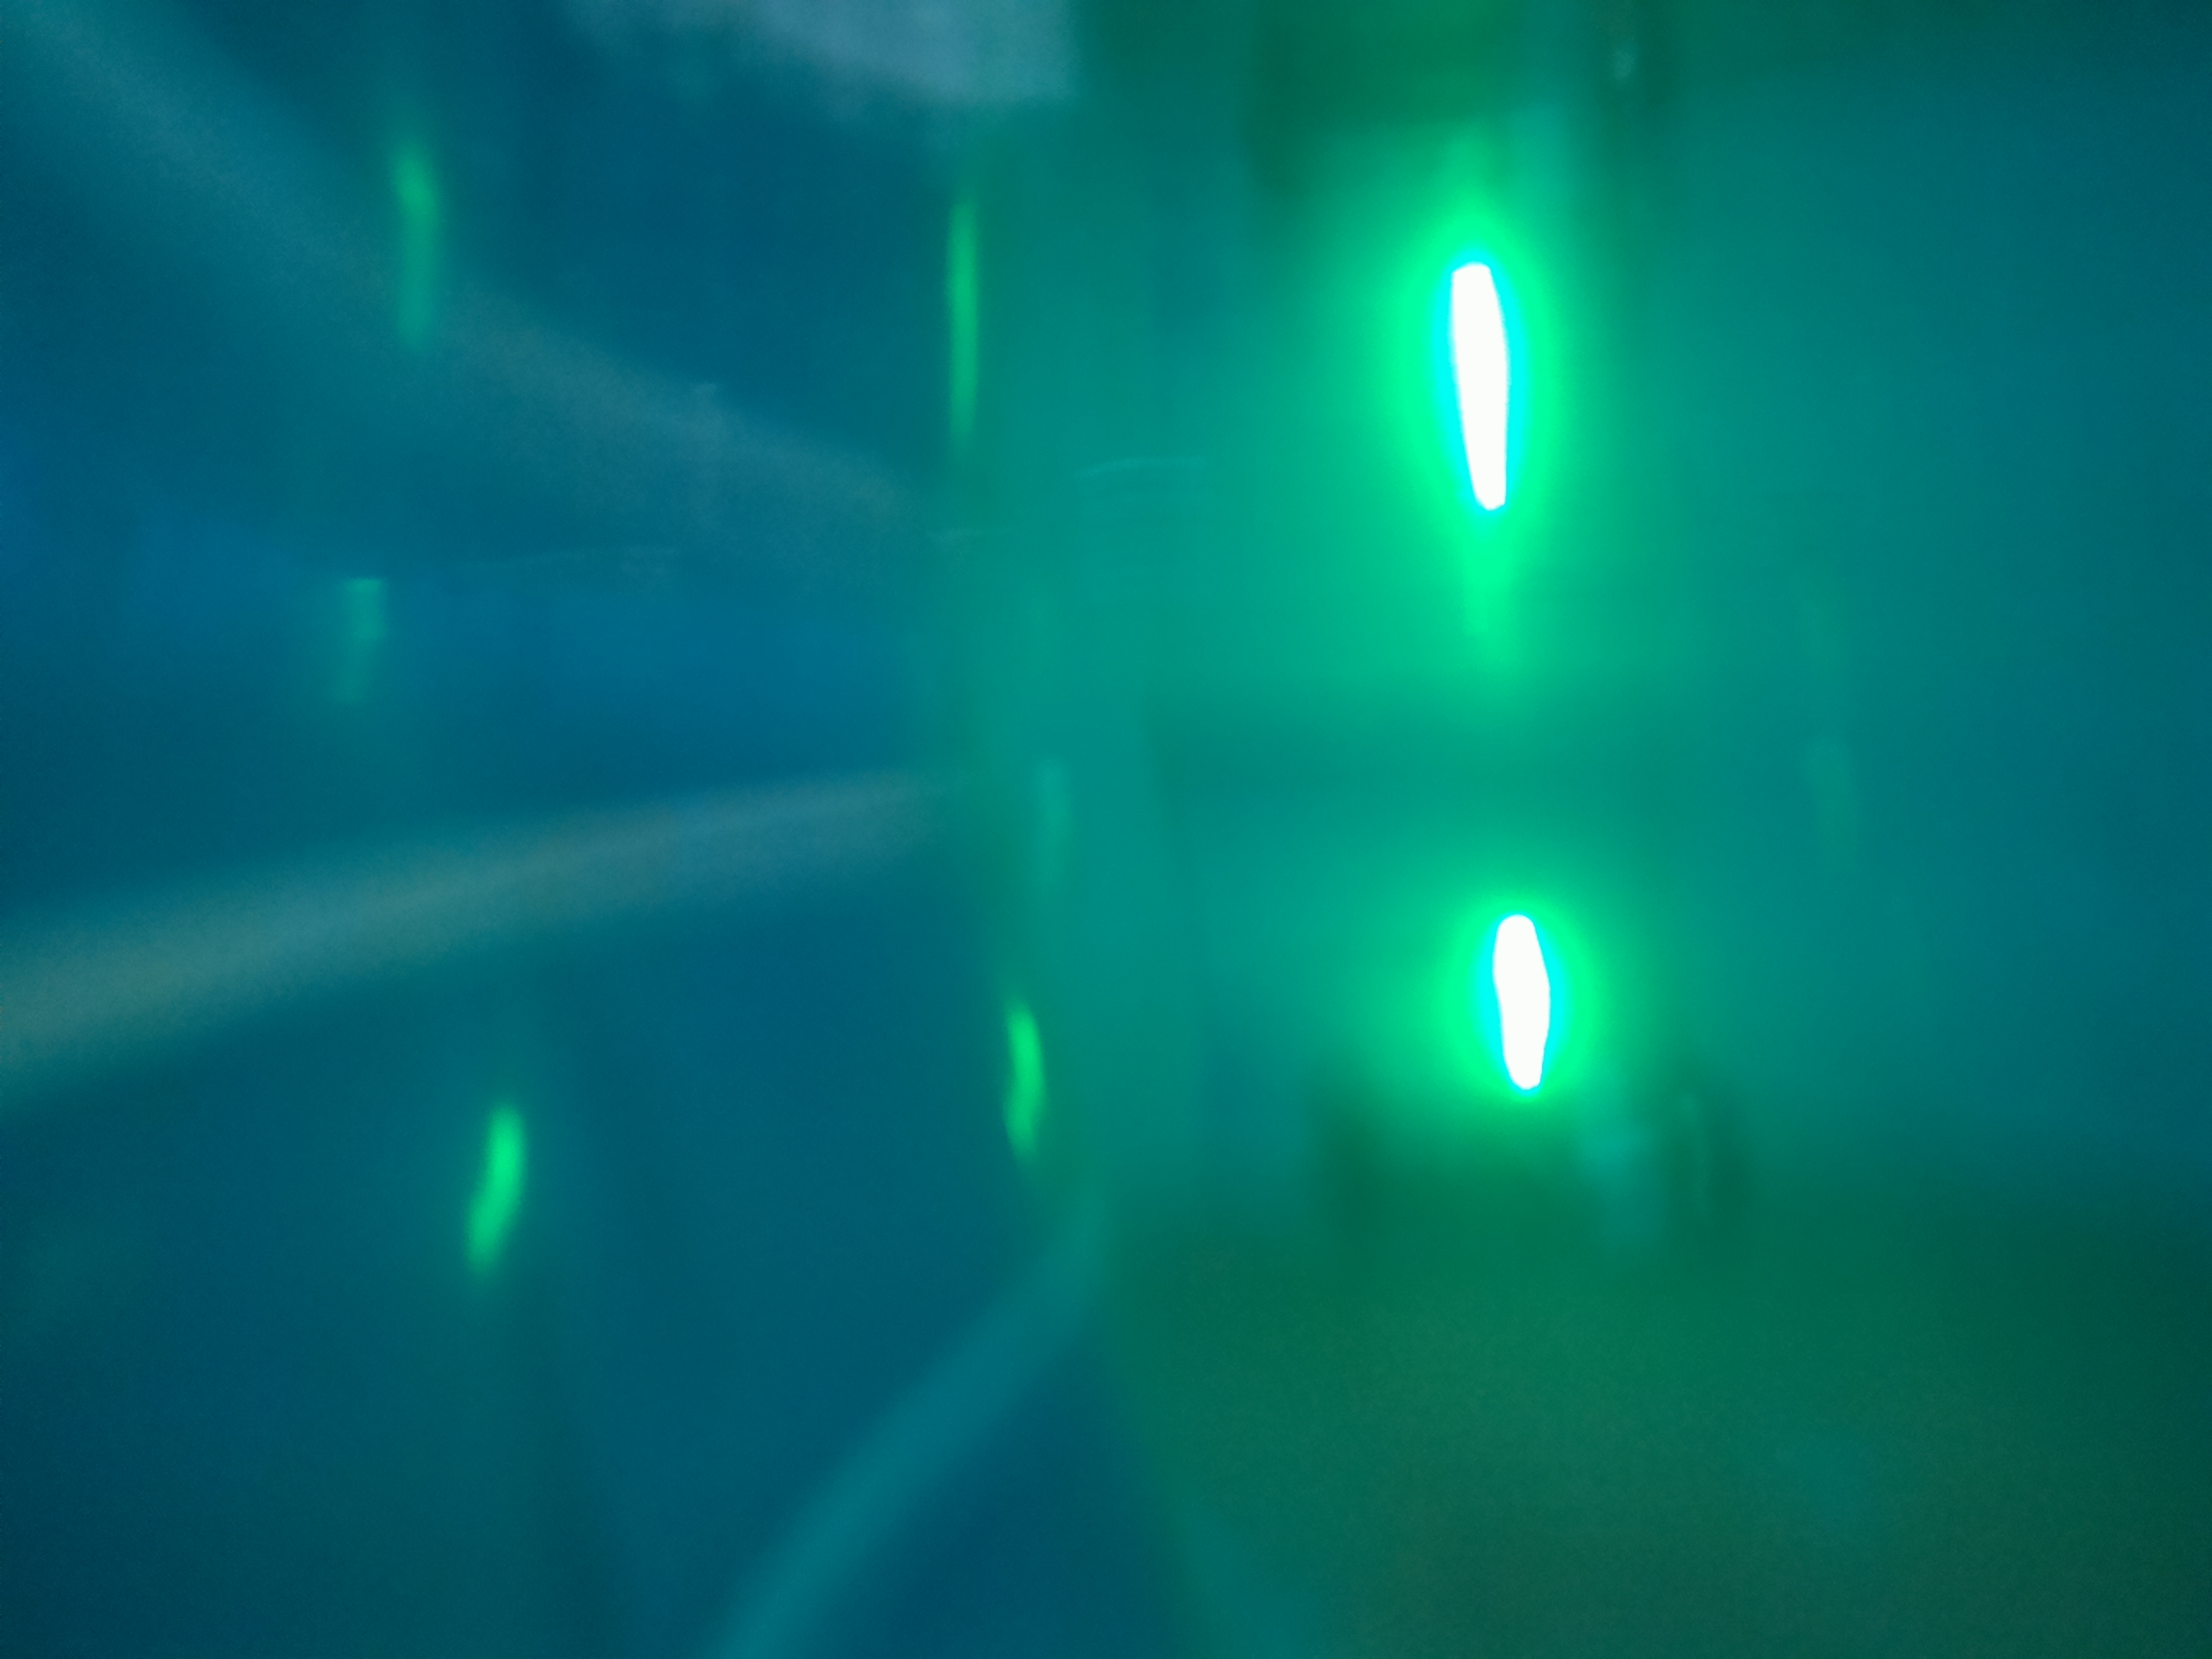green: (1477, 904, 1566, 1108)
